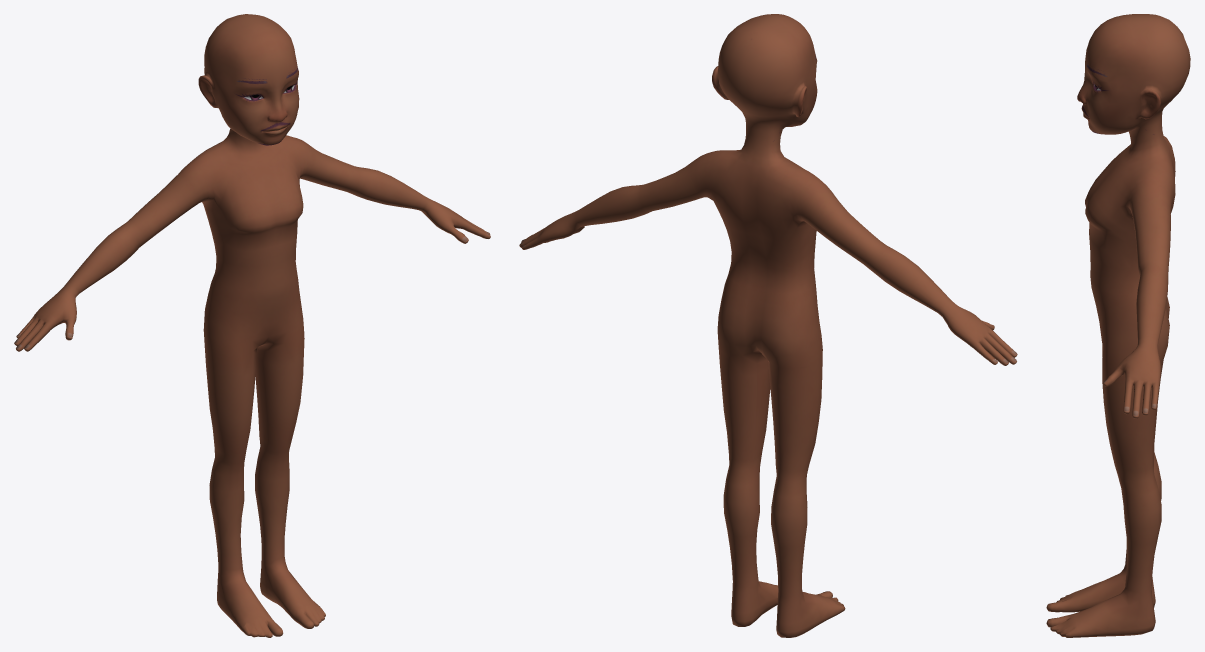
Rendered from frame_0055.glb.
The picture shows the model from 3 angles, left to right: view 1: azimuth 30°, elevation 25°; view 2: azimuth 150°, elevation 25°; view 3: azimuth 270°, elevation 25°; orthographic projection. The views are drawn at different scales.
Visible parts, largest first — view 1: frame_0055_head_geo; view 2: frame_0055_head_geo; view 3: frame_0055_head_geo.
Boxes of the visible parts, left/top/right/bottom form: frame_0055_head_geo: left=14, top=14, right=490, bottom=637; frame_0055_head_geo: left=519, top=14, right=1017, bottom=637; frame_0055_head_geo: left=1046, top=14, right=1190, bottom=637.
Bounding box in the file's own units: 1.28 × 1.5 × 0.3253.
Materials: 3 (3 with a texture image).
